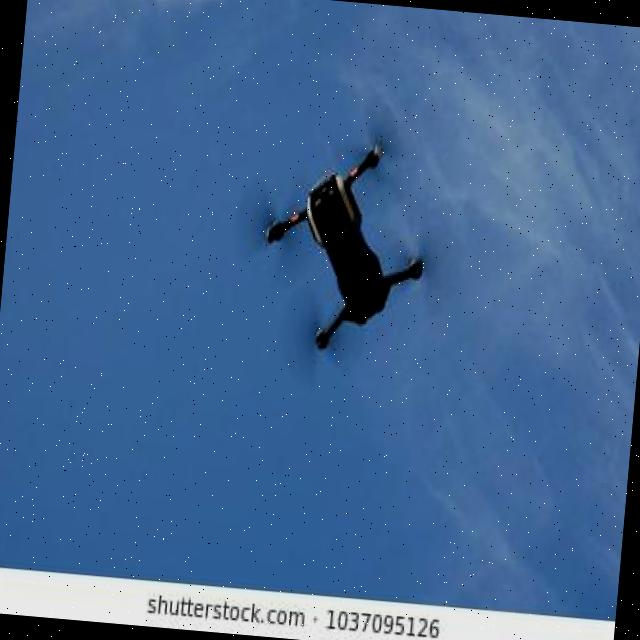drone: (0, 273, 640, 640)
